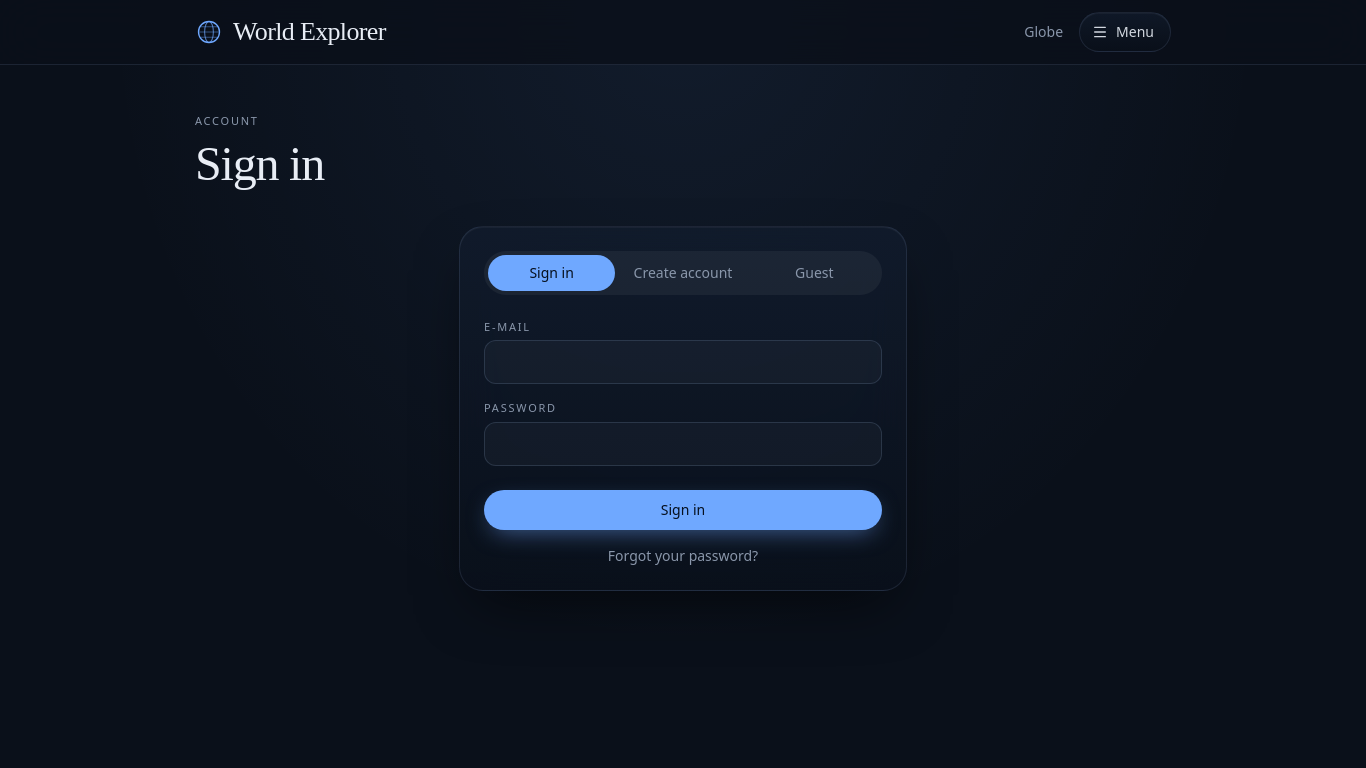
Scenario: LoginPage › offers the password reset and confirms without revealing whether the account exists
Click the button "Forgot your password?" at (683, 556), box x1=484 y1=546 x2=882 y2=566
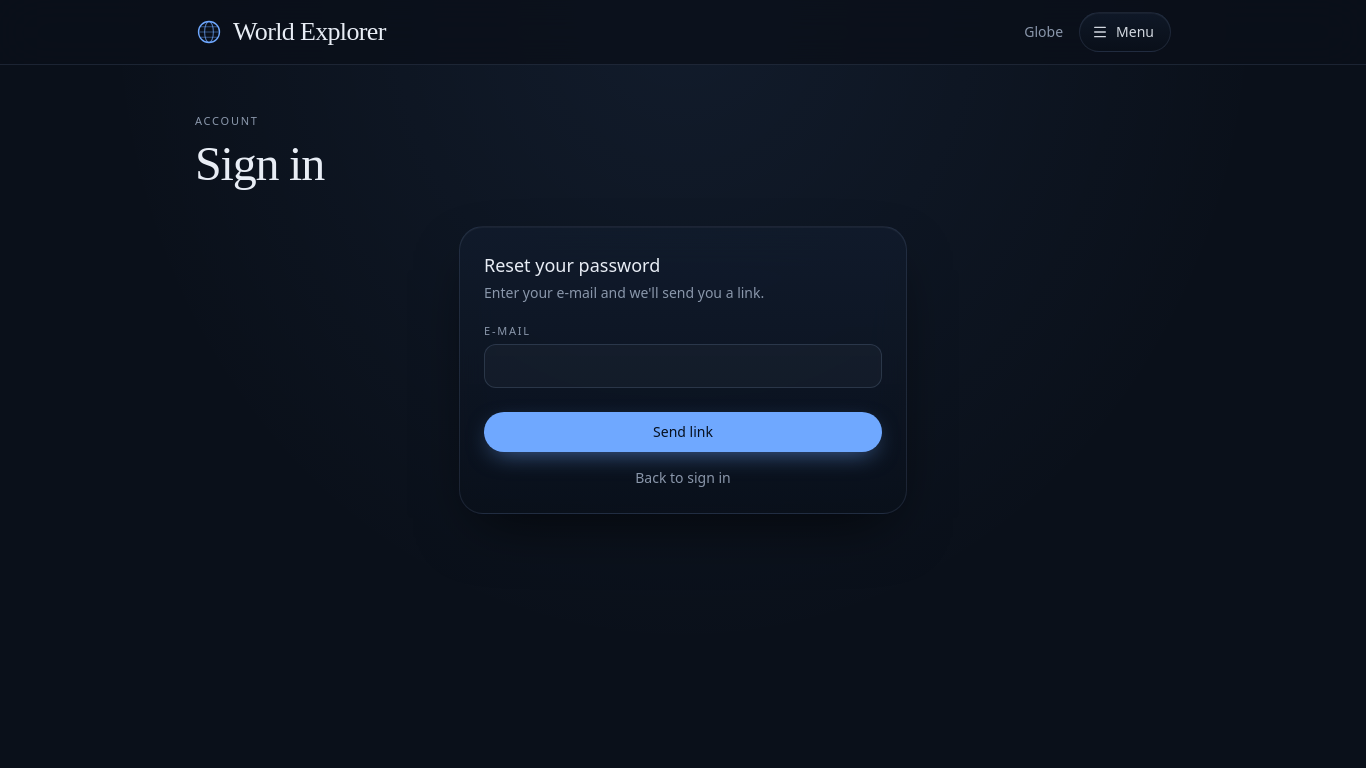
Type "ghost@example.com" into the field labelled "E-mail" at (683, 366), box x1=484 y1=344 x2=882 y2=388
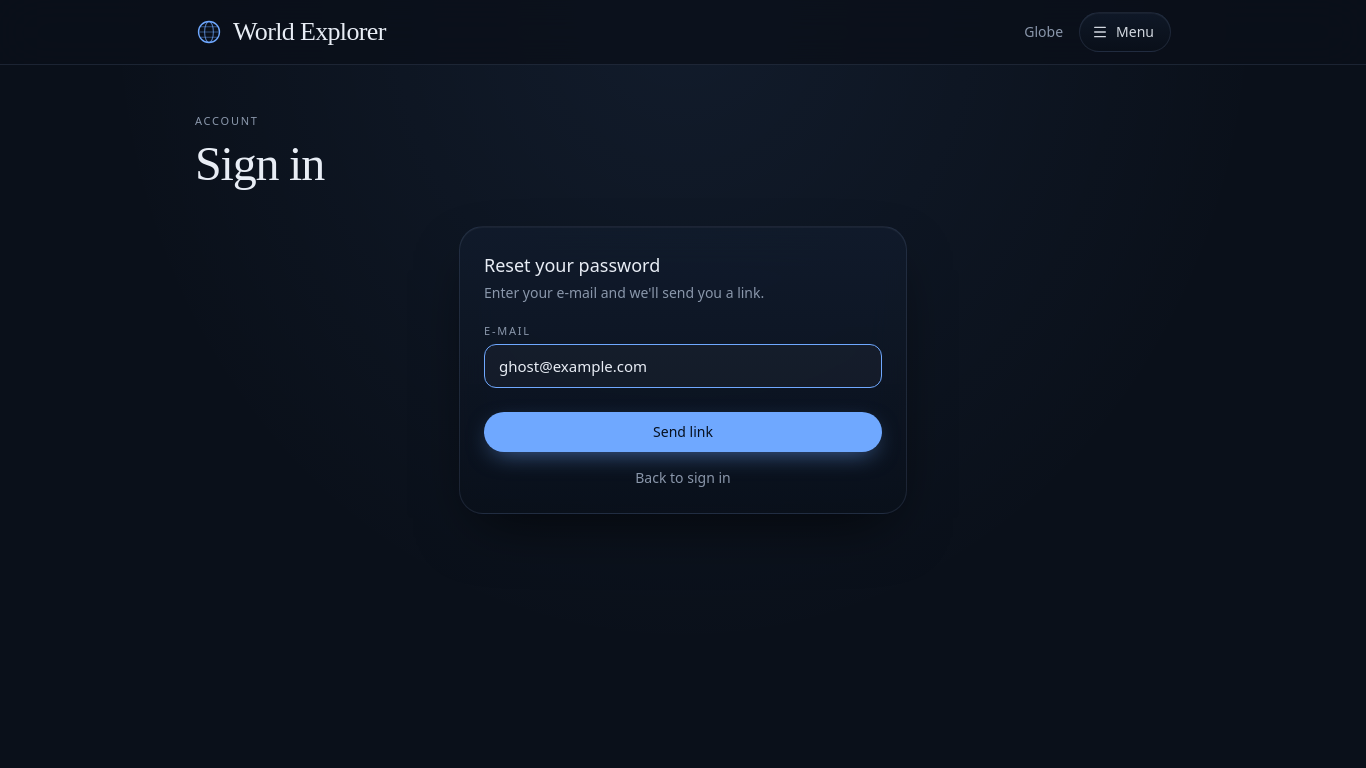
Click the button "Send link" at (683, 432), box x1=484 y1=412 x2=882 y2=452
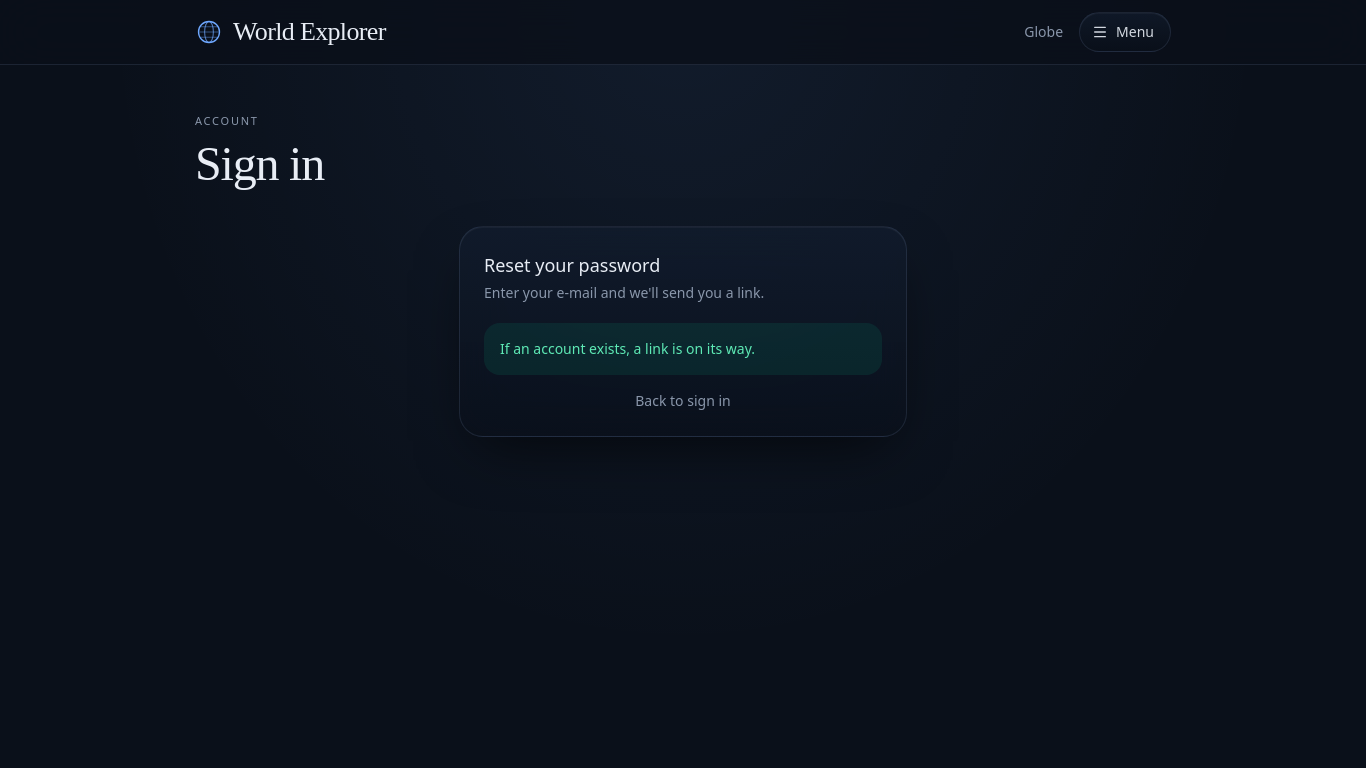
expect the message shows "If an account exists": met, box x1=500 y1=338 x2=755 y2=358
